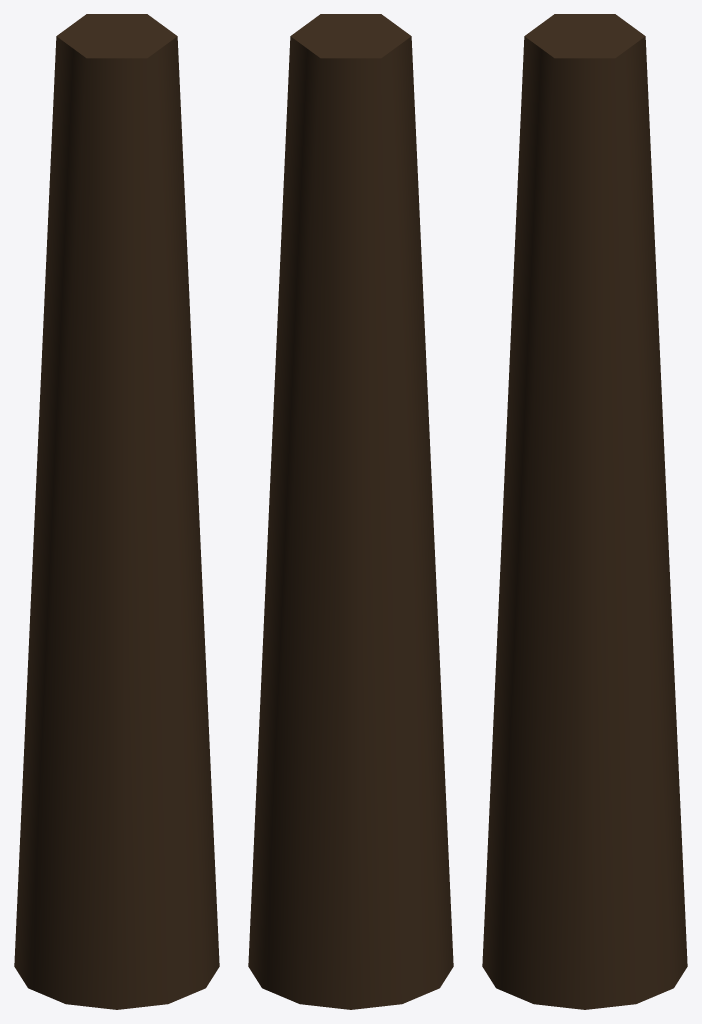
The model's file is sea-root-east.low.glb.
3 renders of one model, left to right at view 1: azimuth 30°, elevation 25°; view 2: azimuth 150°, elevation 25°; view 3: azimuth 270°, elevation 25°, orthographic.
Parts seen in each view (by area): view 1: Sea Root EAST; view 2: Sea Root EAST; view 3: Sea Root EAST.
Boxes of the visible parts, x1,y1,x2,y2 form: Sea Root EAST: (14,14,219,1009); Sea Root EAST: (248,14,453,1009); Sea Root EAST: (482,14,687,1009).
Size of the model in its own units: 12.12 by 60.59 by 12.12.
